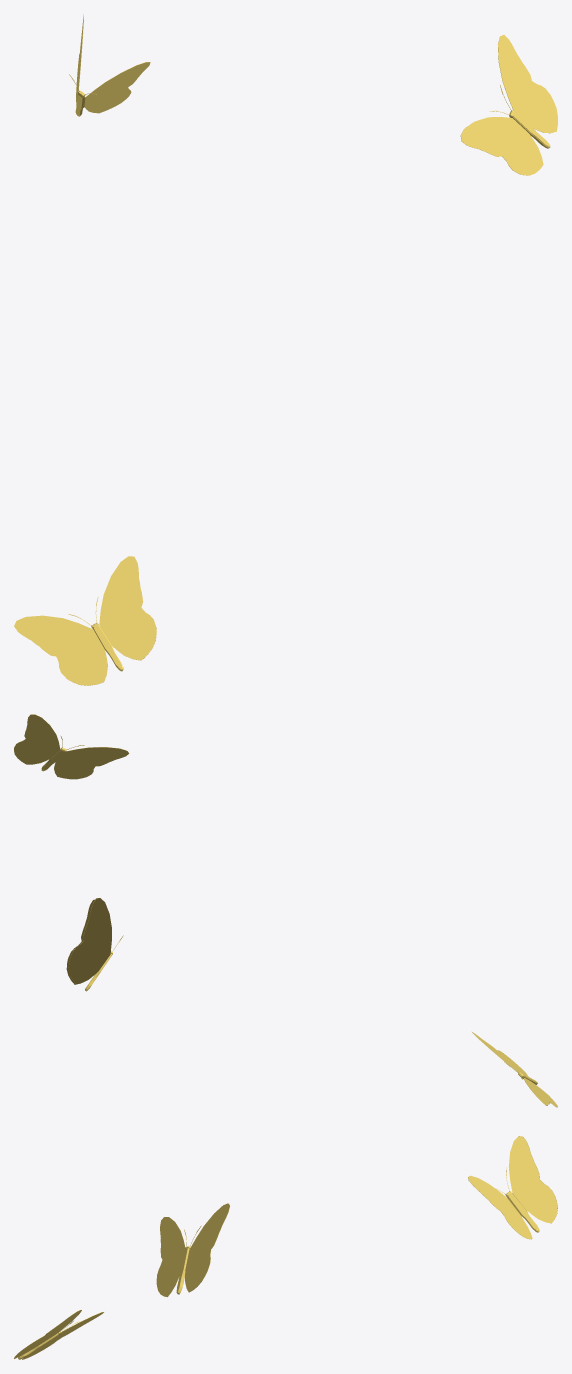
The model's file is butterfly.glb.
3 views of the same model, one above another, from view 1: azimuth 30°, elevation 25°; view 2: azimuth 150°, elevation 25°; view 3: azimuth 270°, elevation 25° (orthographic). The views are drawn at different scales.
Visible parts, largest first — view 1: Vert.001, Vert.002, Vert.003; view 2: Vert.002, Vert.003, Vert.001; view 3: Vert.003, Vert.002, Vert.001.
Boxes of the visible parts, box(x1,y1,x2,y2) form: Vert.001: box(14, 556, 156, 685); Vert.002: box(460, 35, 557, 175); Vert.003: box(69, 14, 150, 116); Vert.002: box(14, 714, 129, 779); Vert.003: box(66, 898, 123, 991); Vert.001: box(472, 1032, 557, 1107); Vert.003: box(468, 1136, 557, 1239); Vert.002: box(156, 1203, 229, 1297); Vert.001: box(14, 1310, 103, 1359).
Bounding box in the file's own units: 22.24 × 15.45 × 20.21.
